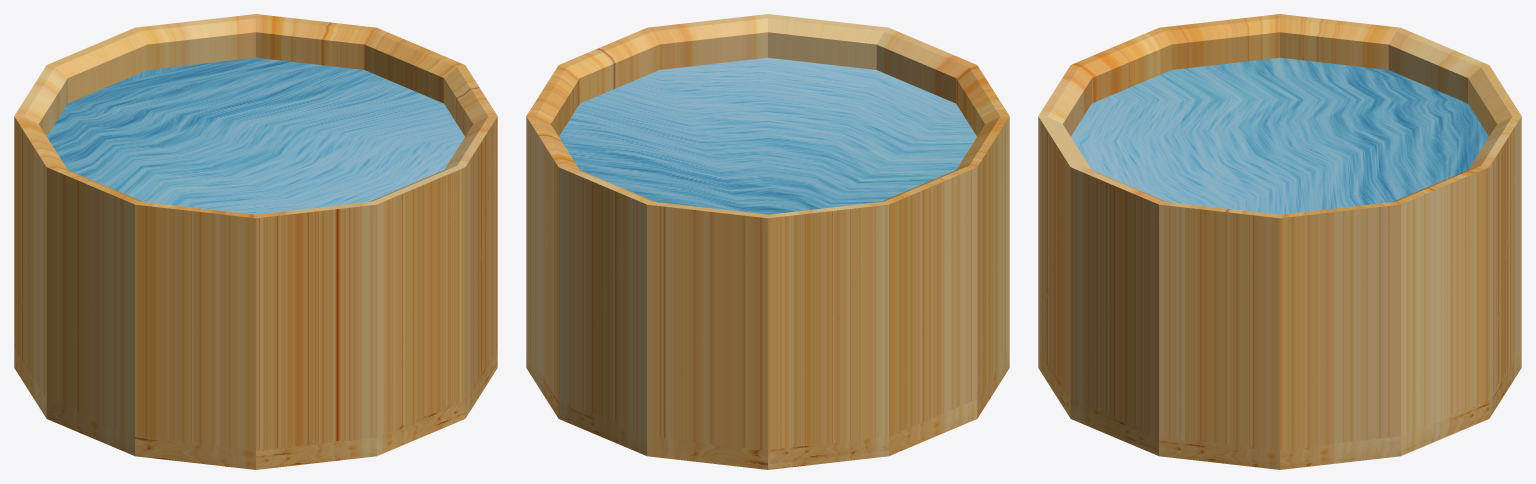
The model's file is Bucket.fbx.
The picture shows the model from 3 angles, left to right: view 1: azimuth 30°, elevation 25°; view 2: azimuth 150°, elevation 25°; view 3: azimuth 270°, elevation 25°; orthographic projection.
Parts seen in each view (by area): view 1: Circle, Circle.001; view 2: Circle, Circle.001; view 3: Circle, Circle.001.
Boxes of the visible parts, x1,y1,x2,y2 form: Circle: (14, 14, 497, 469); Circle.001: (47, 57, 464, 214); Circle: (526, 14, 1009, 469); Circle.001: (559, 57, 976, 214); Circle: (1038, 14, 1521, 469); Circle.001: (1071, 57, 1488, 214).
Size of the model in its own units: 208 by 119 by 208.
